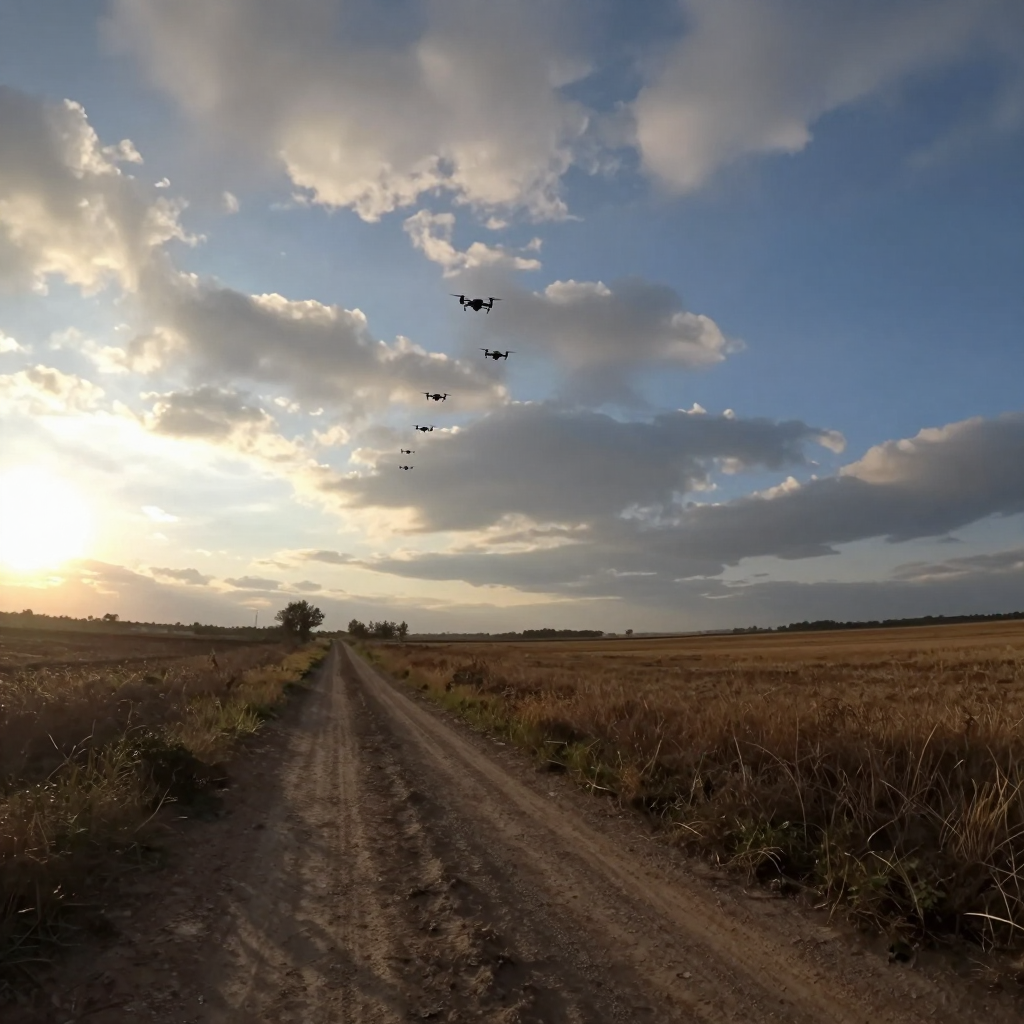drone: (450, 294, 503, 314), (479, 348, 509, 360), (421, 392, 452, 403), (393, 445, 417, 455), (412, 424, 435, 433), (399, 465, 414, 471)
